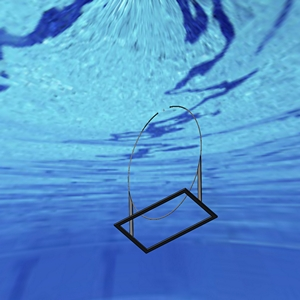circle: (113, 105, 219, 253)
